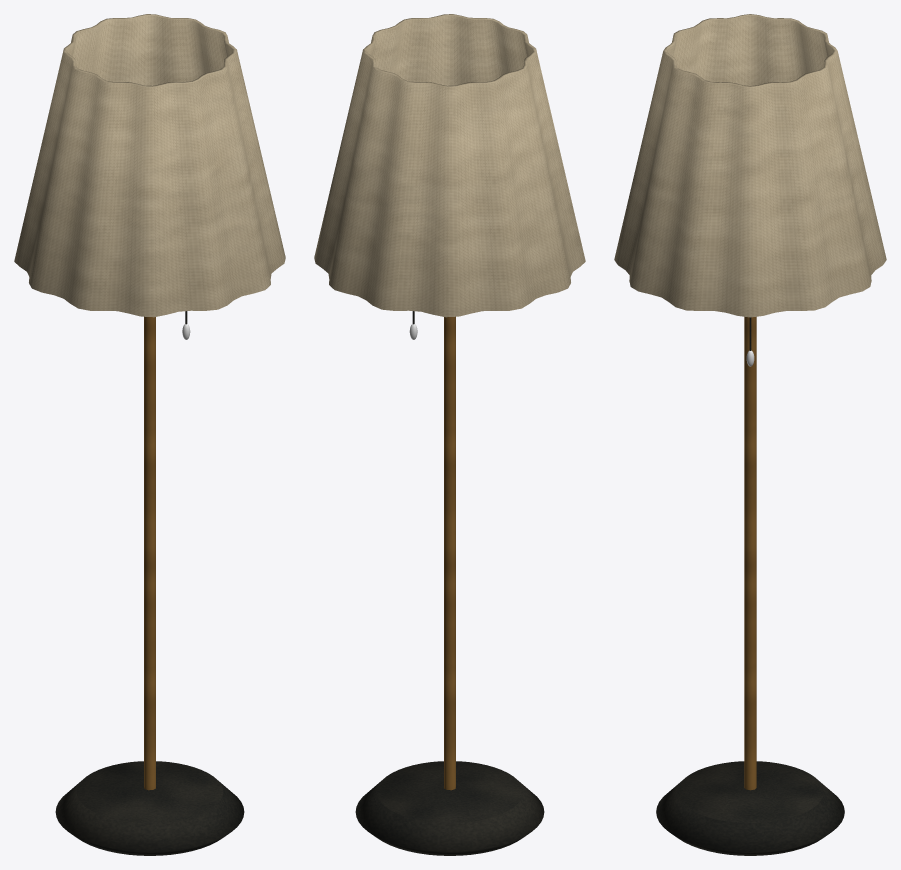
Rendered from FloorLamp.fbx.
The picture shows the model from 3 angles, left to right: view 1: azimuth 30°, elevation 25°; view 2: azimuth 150°, elevation 25°; view 3: azimuth 270°, elevation 25°; orthographic projection.
Parts seen in each view (by area): view 1: FloorLamp_Linen, FloorLamp_Iron, FloorLamp_Brass; view 2: FloorLamp_Linen, FloorLamp_Iron, FloorLamp_Brass; view 3: FloorLamp_Linen, FloorLamp_Iron, FloorLamp_Brass.
Part boxes in pixels (x1,y1,x2,y2): FloorLamp_Linen: (14, 14, 285, 317); FloorLamp_Iron: (55, 311, 244, 855); FloorLamp_Brass: (144, 316, 155, 790); FloorLamp_Linen: (314, 14, 585, 317); FloorLamp_Iron: (355, 311, 544, 855); FloorLamp_Brass: (444, 316, 455, 790); FloorLamp_Linen: (614, 14, 886, 317); FloorLamp_Iron: (656, 317, 844, 855); FloorLamp_Brass: (744, 316, 756, 790).
Size of the model in its own units: 52 by 162 by 52.
